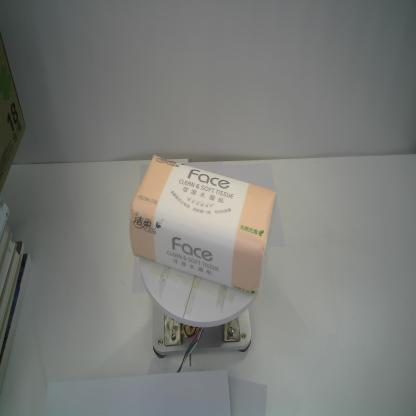Tissue: (129, 151, 278, 300)
